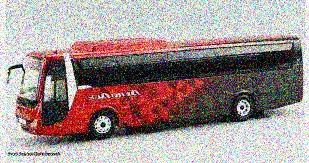bus: (17, 34, 304, 140)
